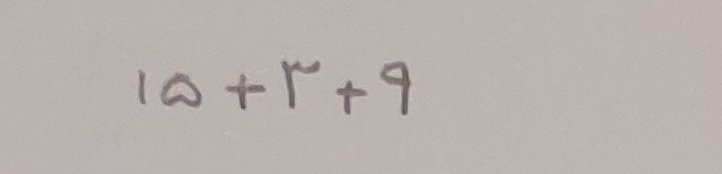character: (281, 60, 319, 106), (160, 73, 206, 109), (380, 61, 407, 115), (225, 73, 263, 108), (336, 79, 369, 115), (137, 69, 147, 104)
